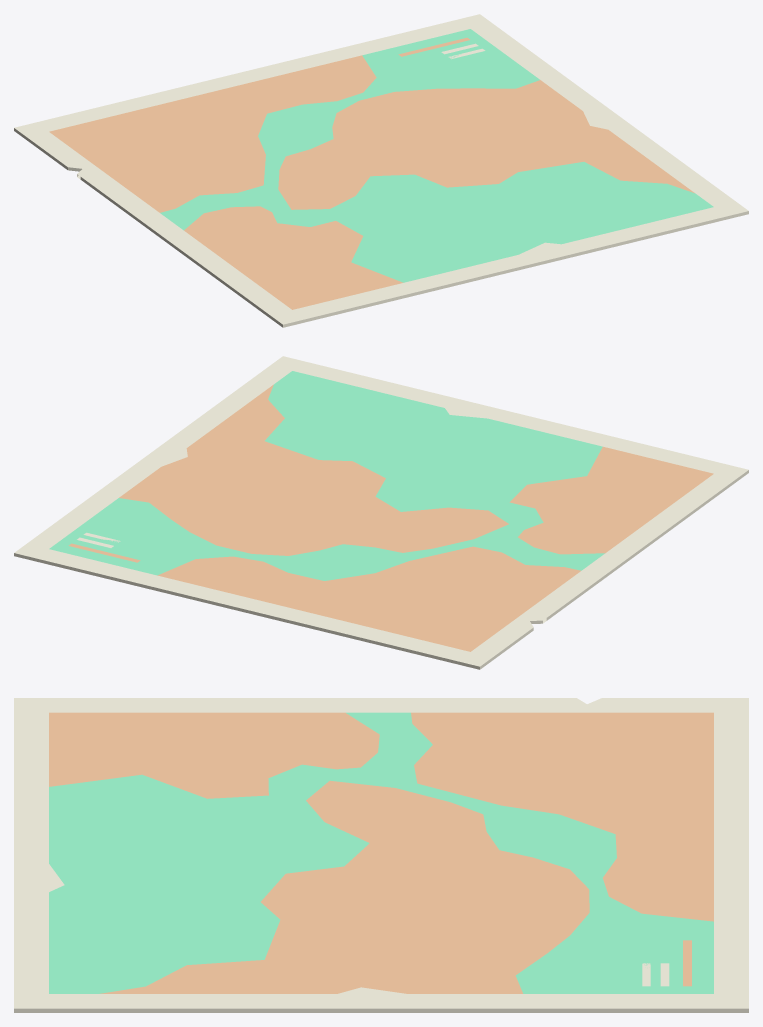
Rendered from Map.fbx.
The picture shows the model from 3 angles, top to bottom: view 1: azimuth 30°, elevation 25°; view 2: azimuth 150°, elevation 25°; view 3: azimuth 270°, elevation 25°; orthographic projection. The views are drawn at different scales.
Parts seen in each view (by area): view 1: Map; view 2: Map; view 3: Map.
Part boxes in pixels (box(x1,y1,x2,y2)): Map: box(14, 14, 748, 327); Map: box(14, 356, 748, 669); Map: box(14, 698, 748, 1012).
Bounding box in the file's own units: 0.3116 × 0.00201 × 0.3116.
